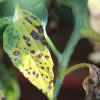Tomato Septoria leaf spot: (2, 9, 58, 100)
